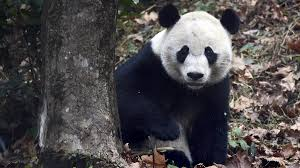panda: (91, 2, 251, 159)
